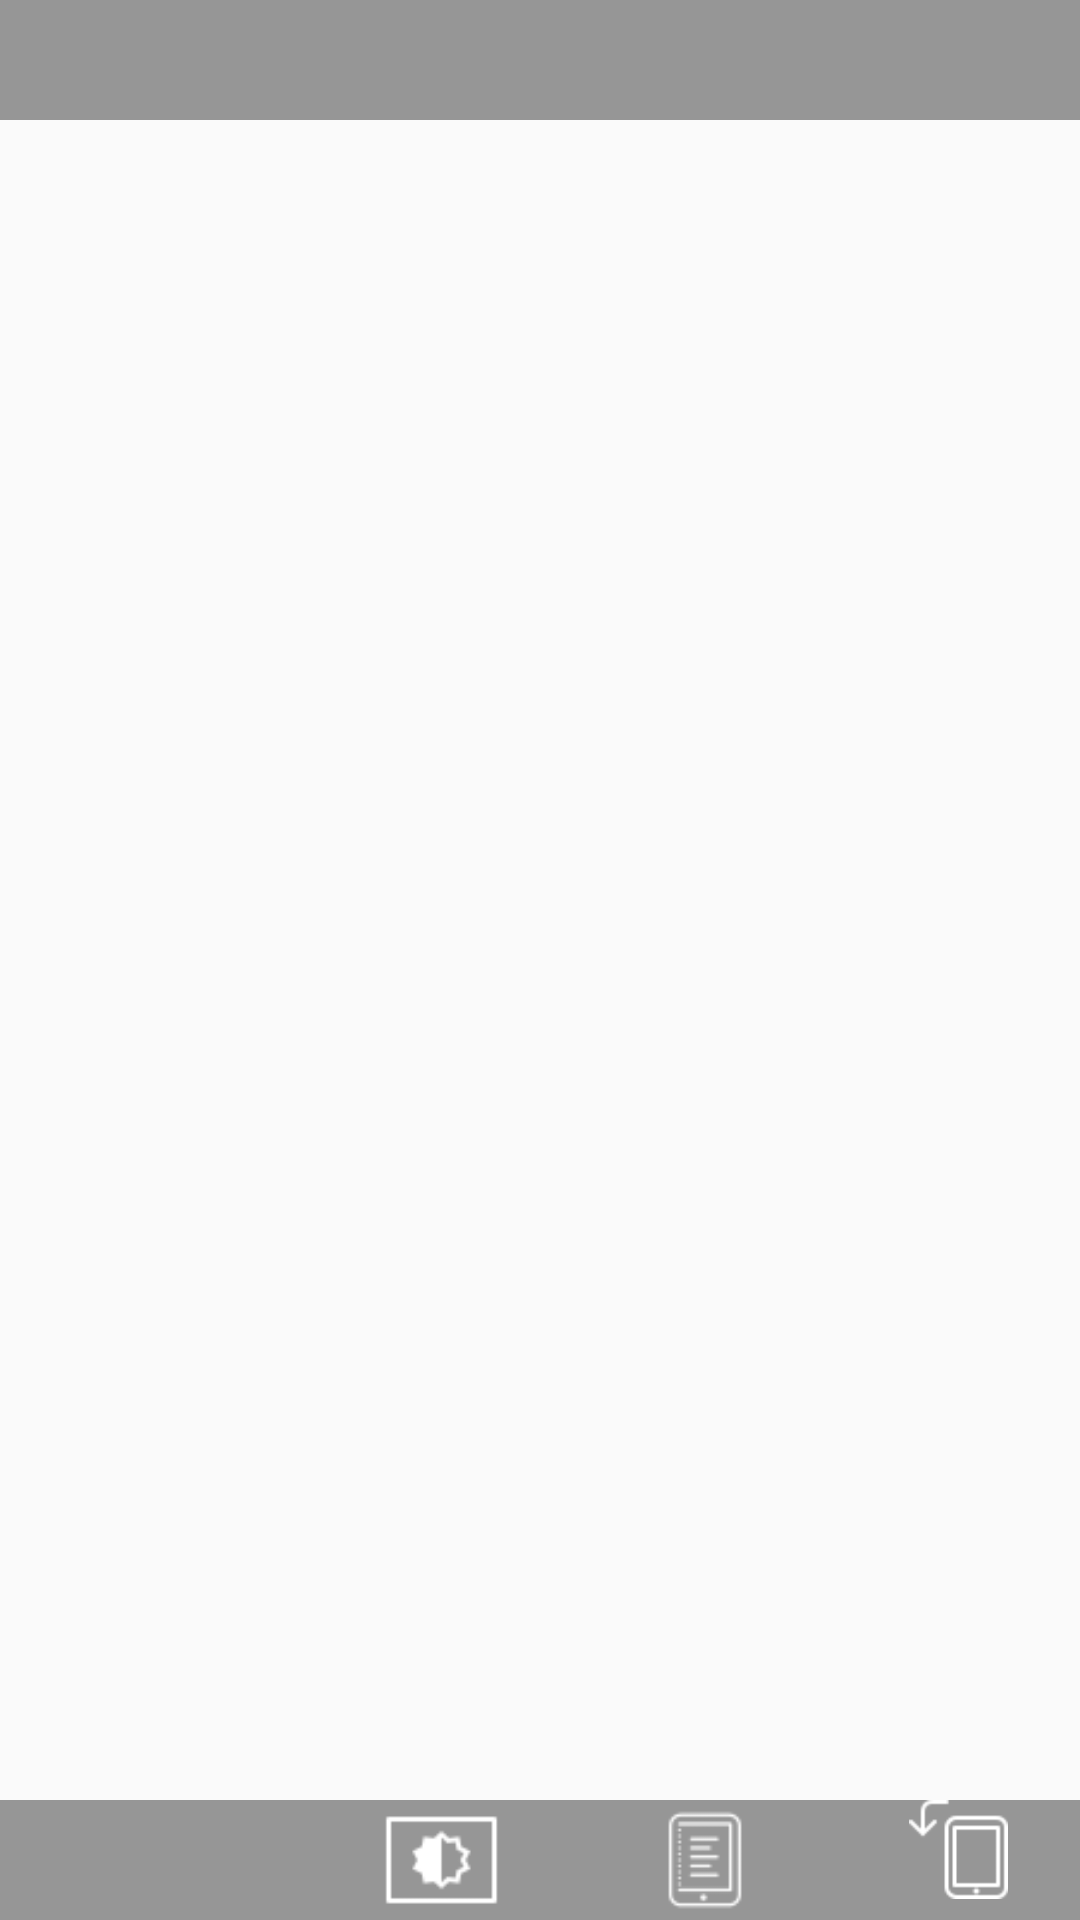

Where to tap for icons on this 1080*1920 app screen, as point (x, y):
brightness readcomic: point (441, 1860)
readmode readcomic: point (705, 1860)
rotate readcomic: point (958, 1849)
